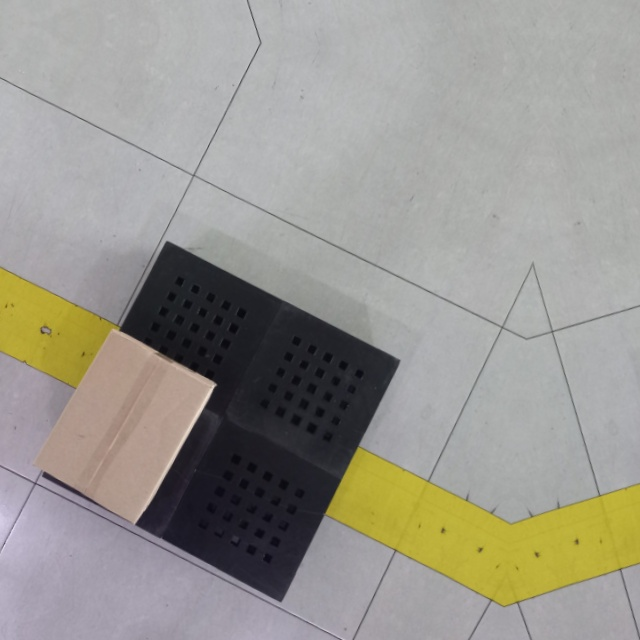box: (32, 322, 218, 529)
pallet: (32, 232, 408, 613)
